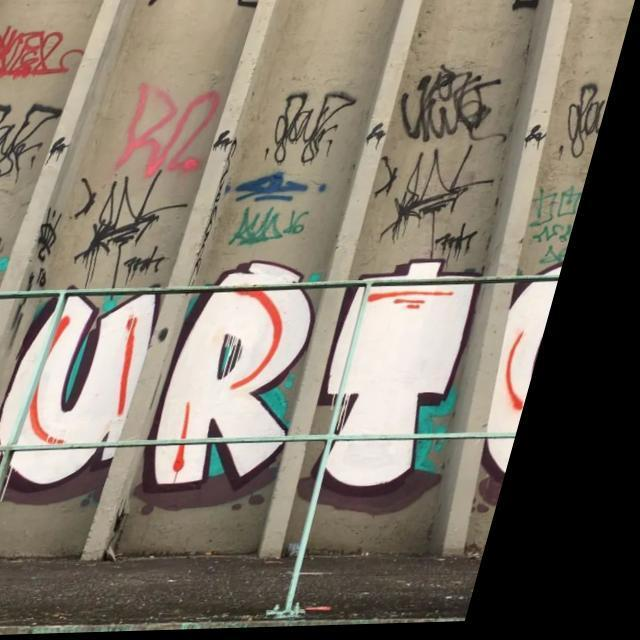-: (0, 238, 585, 540), (360, 65, 540, 251), (90, 59, 252, 187), (44, 180, 206, 290), (524, 81, 619, 266), (257, 56, 385, 178), (214, 174, 352, 256), (0, 7, 99, 93), (0, 96, 73, 184)
